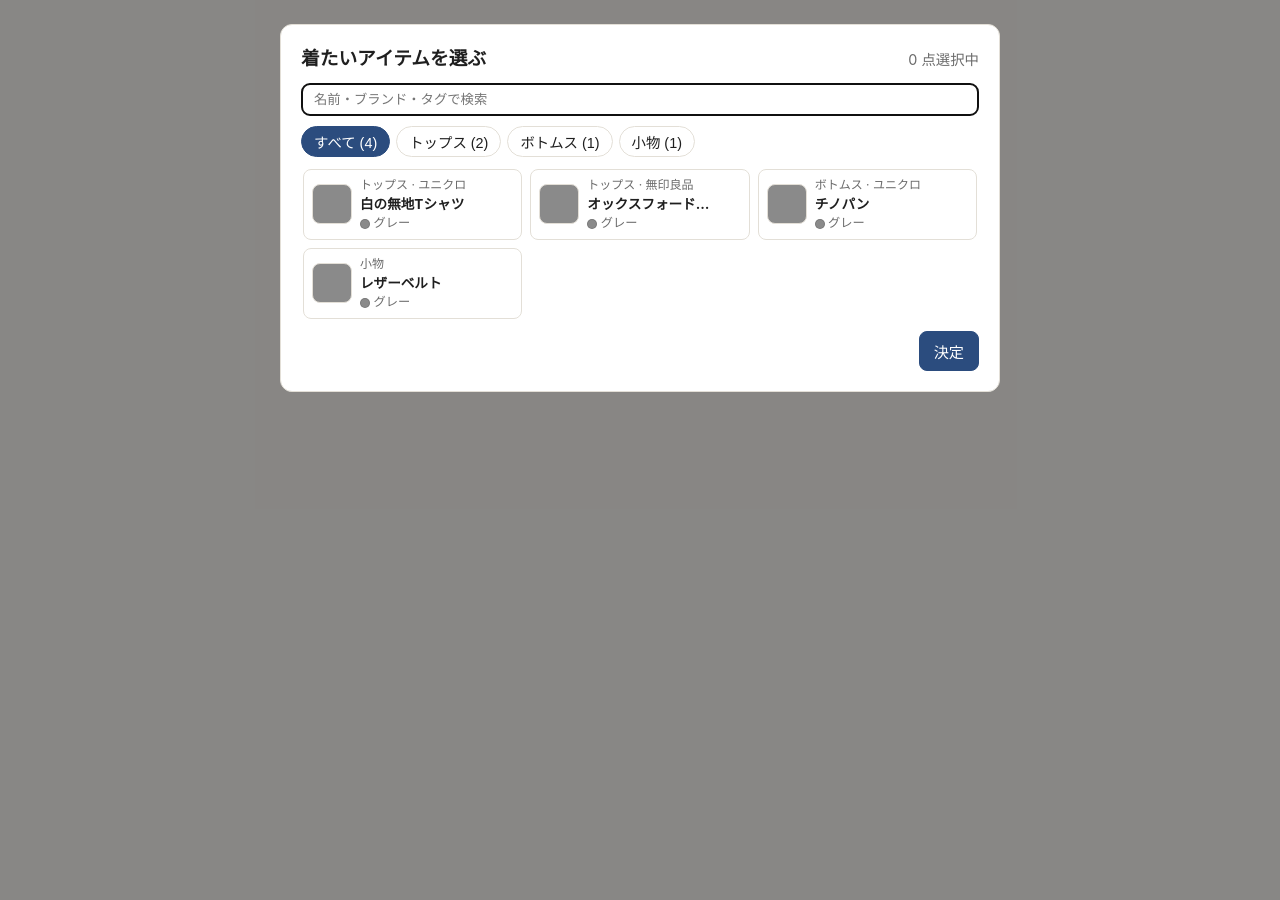
Test: ItemPicker › filters by search text (name, brand, tag) and by category chips
The width and height of the screenshot is (1280, 900).
Type "無印" into the field with placeholder "名前・ブランド・タグで検索" at (640,100), box [301,83,979,116]
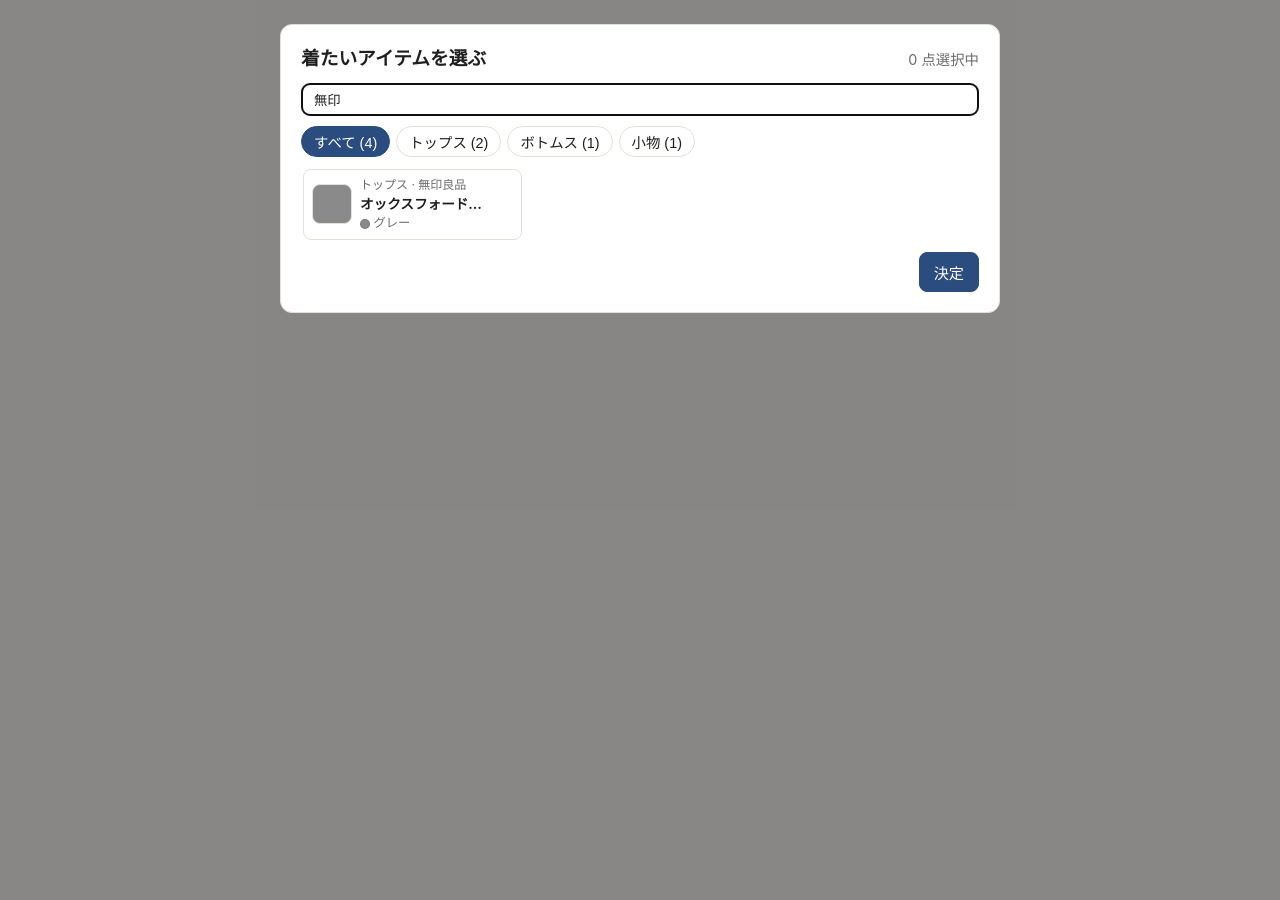
Expected: the text "オックスフォードシャツ" is shown, [360,194,485,214]
Now the number of buttons named "選択" is 1, box [303,169,522,240]
Clear the field with placeholder "名前・ブランド・タグで検索" at (640,100), box [301,83,979,116]
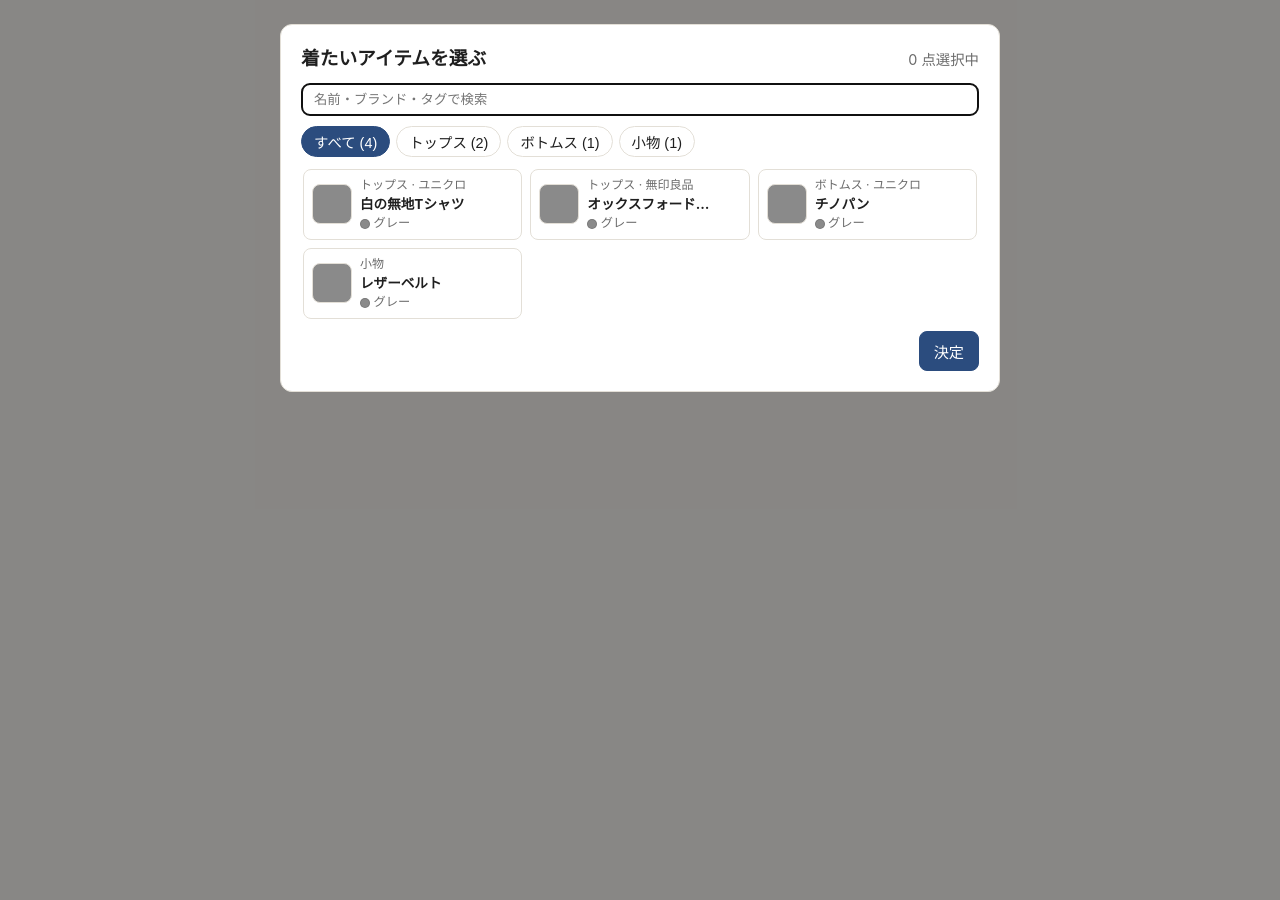
Click the button "ボトムス (1)" at (560,142), box [507,126,613,157]
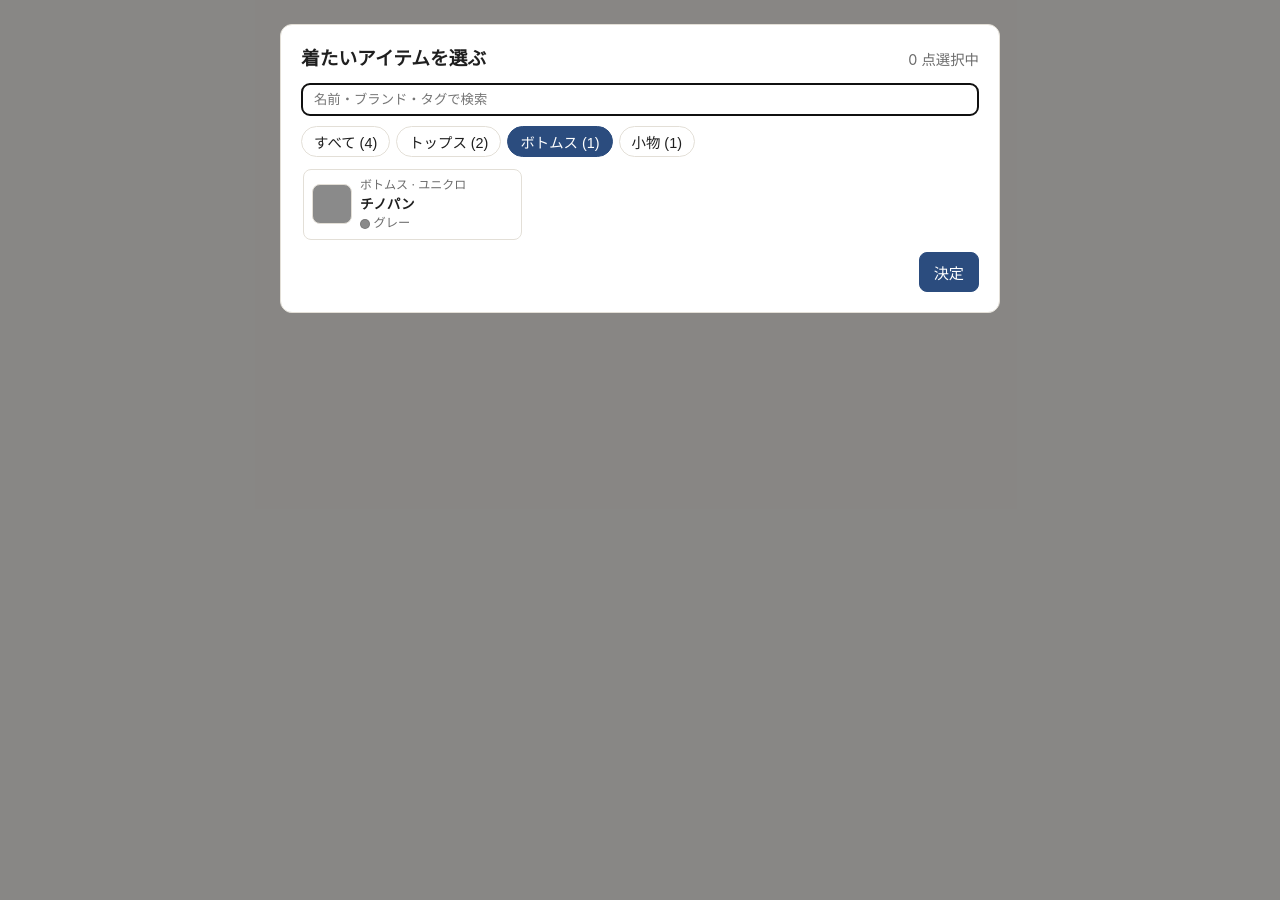
Now the text "チノパン" is shown, box [360,196,415,212]
Now the number of buttons named "選択" is 1, box [303,169,522,240]
